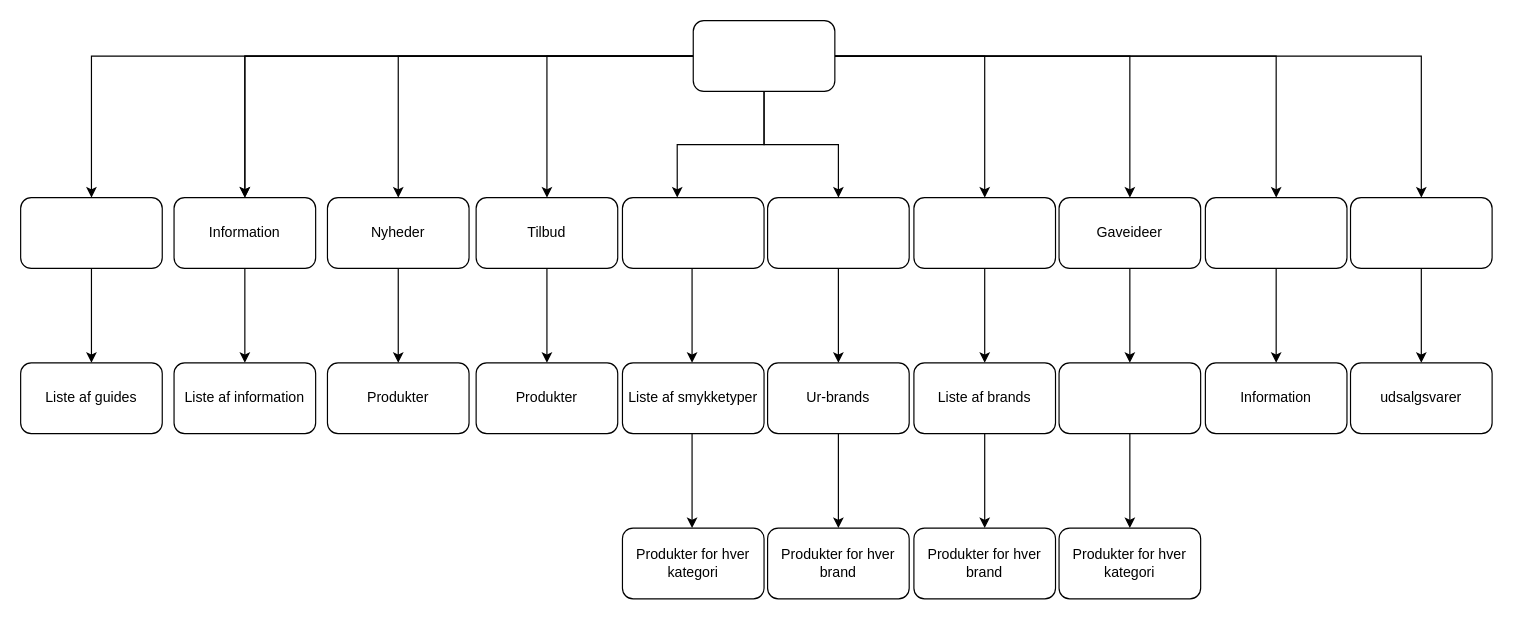
Some shapes in this 1513 by 620 pixel diagram are drawn without their labels. Here are the shapes that lost their labels. From the top down, the box of each, then its label:
(692, 19, 835, 91): Forside
(19, 196, 162, 268): Guides
(621, 196, 764, 268): Smykker
(766, 196, 909, 268): Ure
(913, 196, 1056, 268): Brands
(1204, 196, 1347, 268): Forsikring
(1349, 196, 1492, 268): Udsalg
(1058, 362, 1201, 434): Liste af gaveideer
